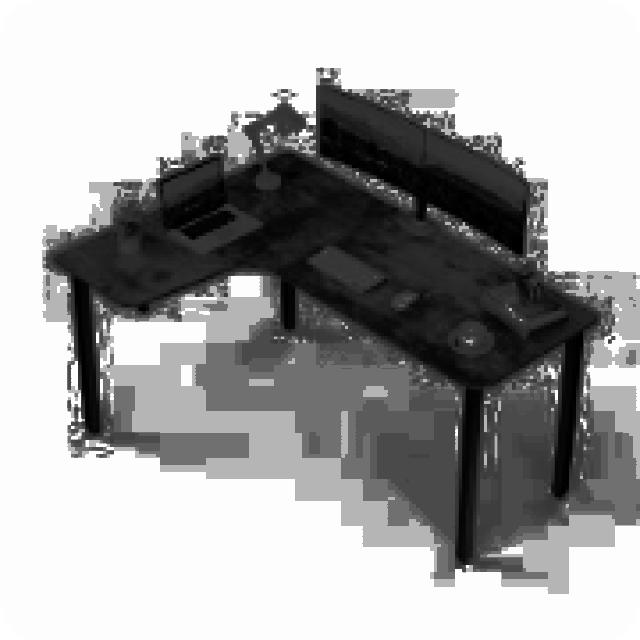table: (50, 147, 597, 561)
